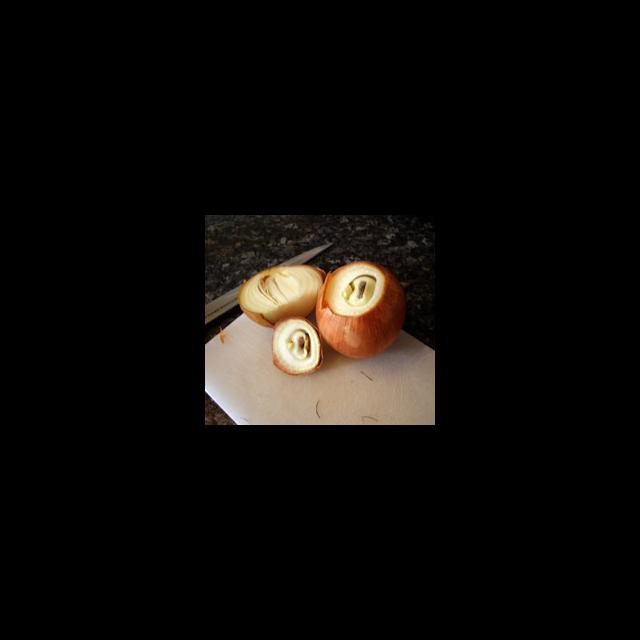food_waste: (235, 252, 403, 384)
